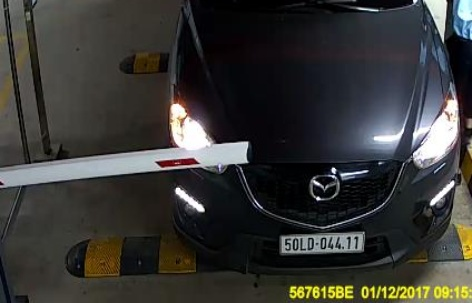plate: (271, 224, 368, 260)
